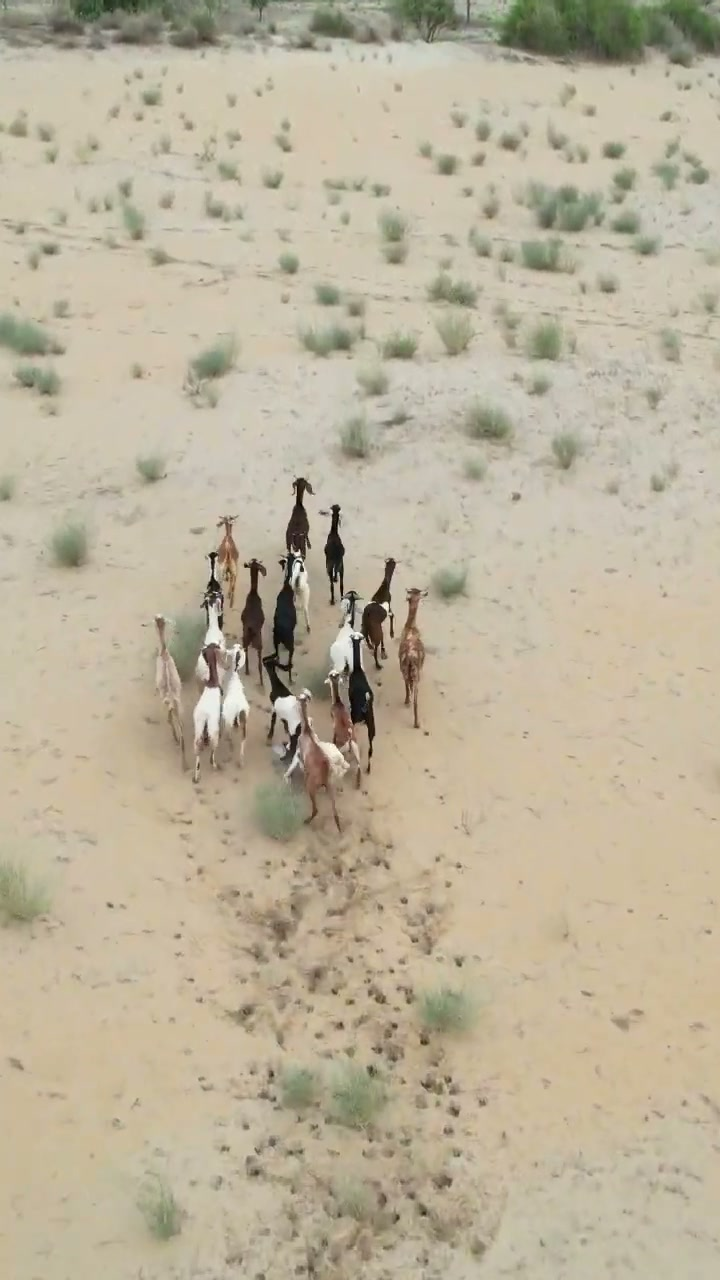animal_footprint: (112, 720, 591, 1277)
